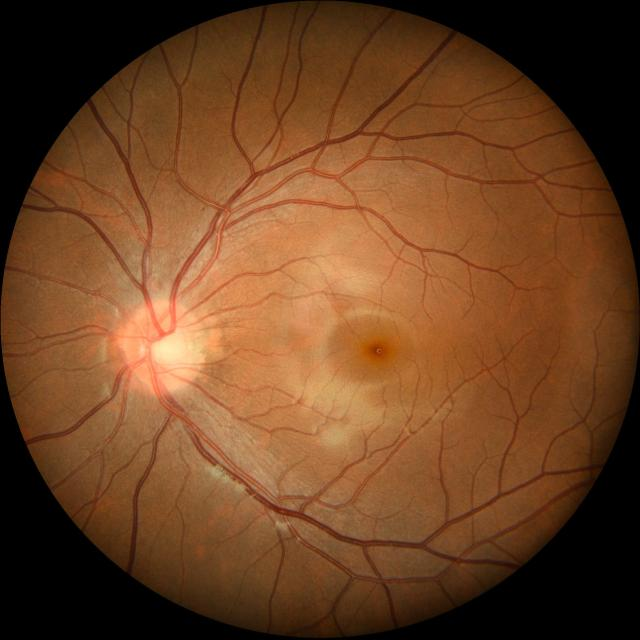OC: (148, 334, 181, 367)
OD: (122, 300, 202, 392)
